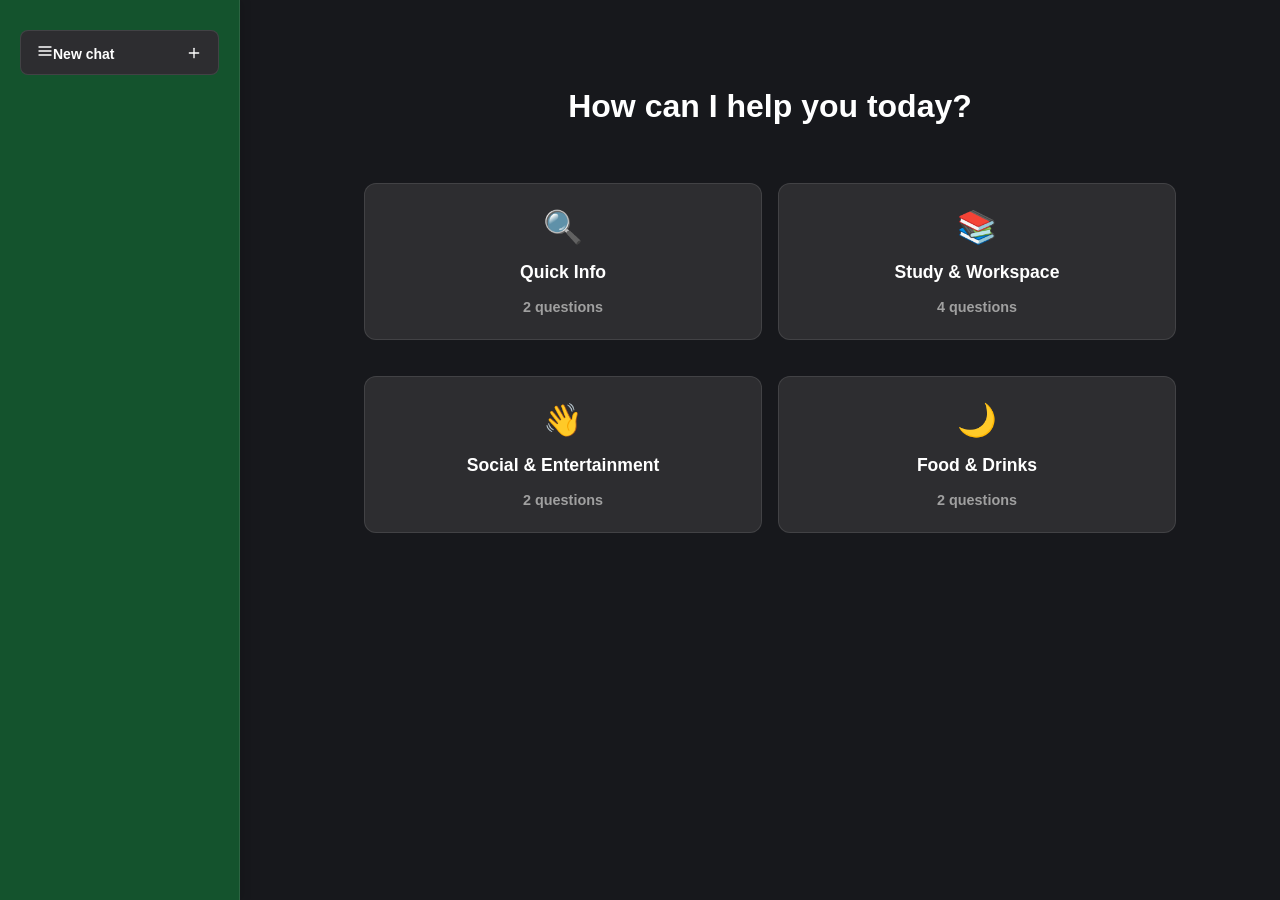
Scenario: ChatPage Component › Category Selection › displays relevant questions when category is selected
Click the text "Study & Workspace" at (977, 272), box [894,262,1059,283]
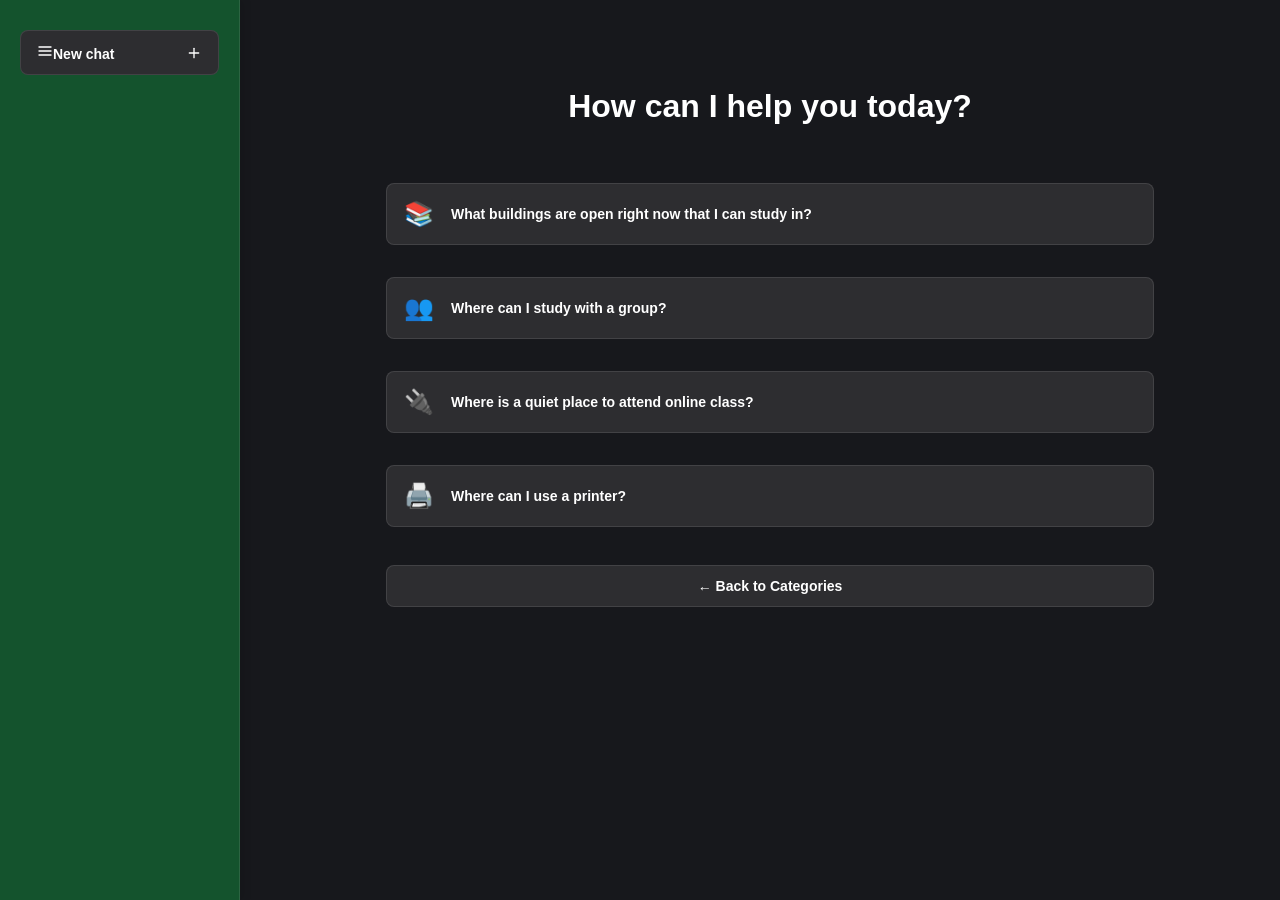
Check: the text "What buildings are open right now that I can study in?" is shown, box [451,206,812,222]
Check: the text "Where can I study with a group?" is shown, box [451,300,666,316]
